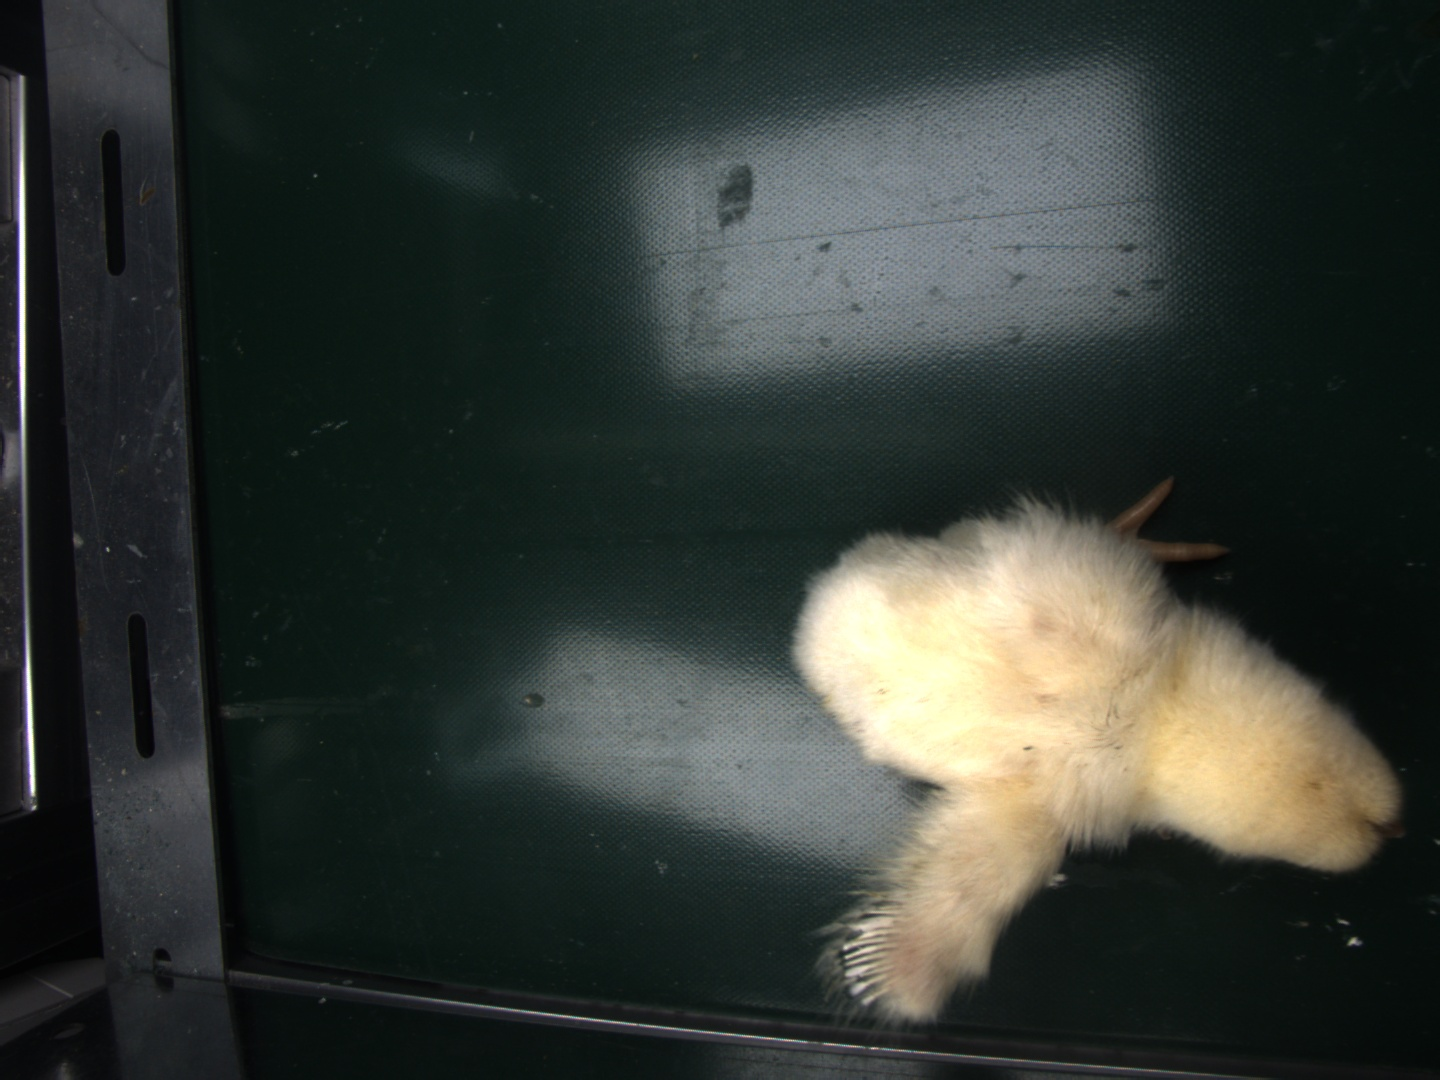male: (846, 904, 905, 1001)
